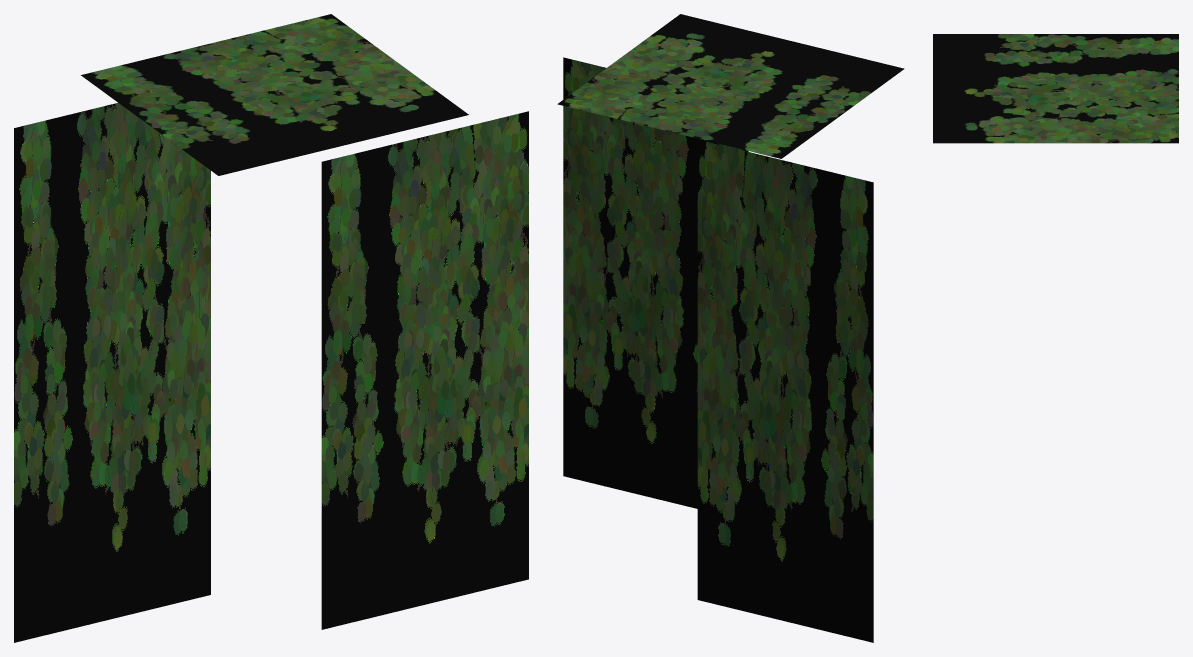
Rendered from Prop_Vine5_LOD2.gltf.
3 views of the same model, side by side, from view 1: azimuth 30°, elevation 25°; view 2: azimuth 150°, elevation 25°; view 3: azimuth 270°, elevation 25° (orthographic). The views are drawn at different scales.
Visible parts, largest first — view 1: Prop_Vine5_LOD2; view 2: Prop_Vine5_LOD2; view 3: Prop_Vine5_LOD2.
Boxes of the visible parts, x1,y1,x2,y2 form: Prop_Vine5_LOD2: (14, 14, 528, 642); Prop_Vine5_LOD2: (557, 14, 904, 642); Prop_Vine5_LOD2: (933, 34, 1178, 143).
Size of the model in its own units: 2.03 by 2.4 by 1.13.
1 material, 1 textured.
